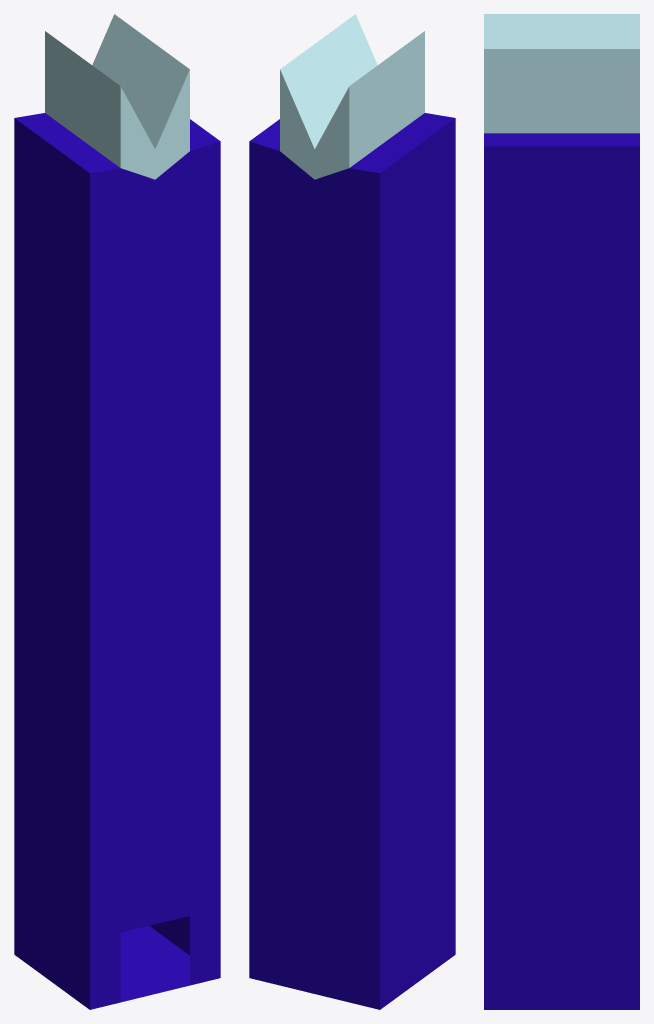
The model's file is BossKiller_Martoyota.fbx.
3 views of the same model, side by side, from view 1: azimuth 30°, elevation 25°; view 2: azimuth 150°, elevation 25°; view 3: azimuth 270°, elevation 25° (orthographic). The views are drawn at different scales.
Visible parts, largest first — view 1: Plane; view 2: Plane; view 3: Plane.
Part boxes in pixels (x1,y1,x2,y2): Plane: [14, 14, 220, 1009]; Plane: [249, 14, 455, 1009]; Plane: [484, 14, 639, 1009].
Size of the model in its own units: 4835 by 32393 by 4840.
